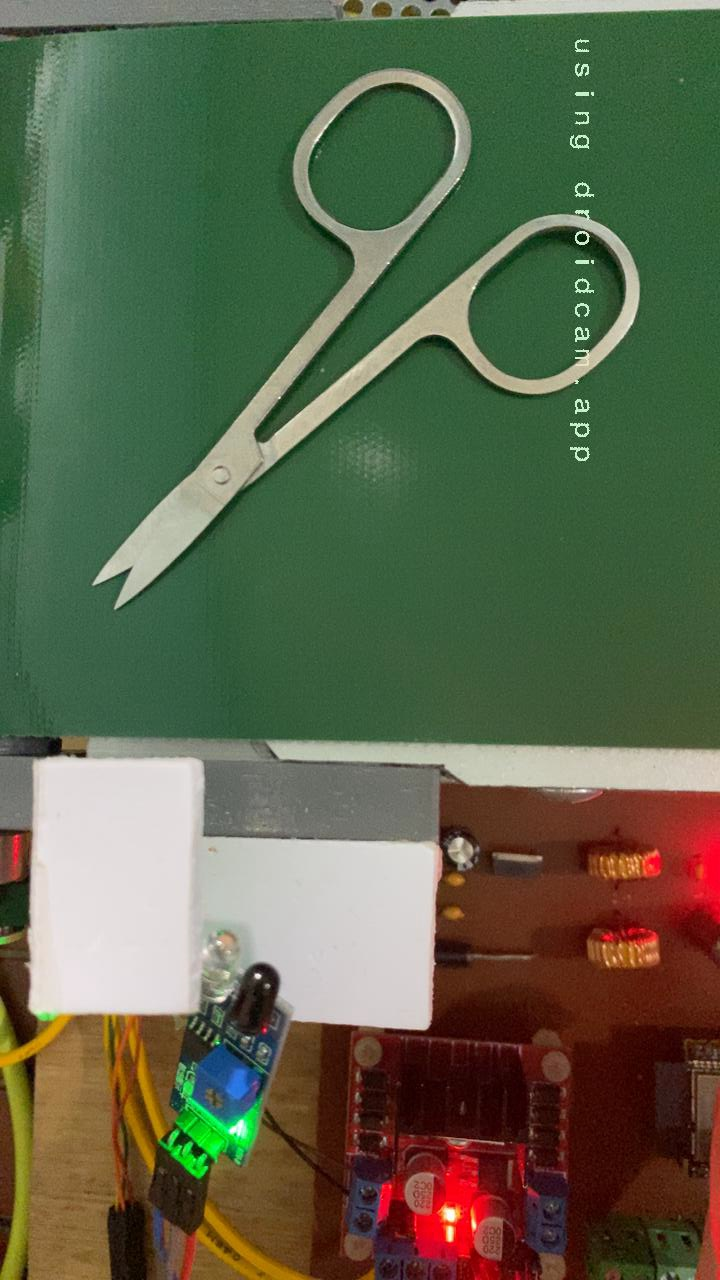scissor: (87, 63, 648, 615)
